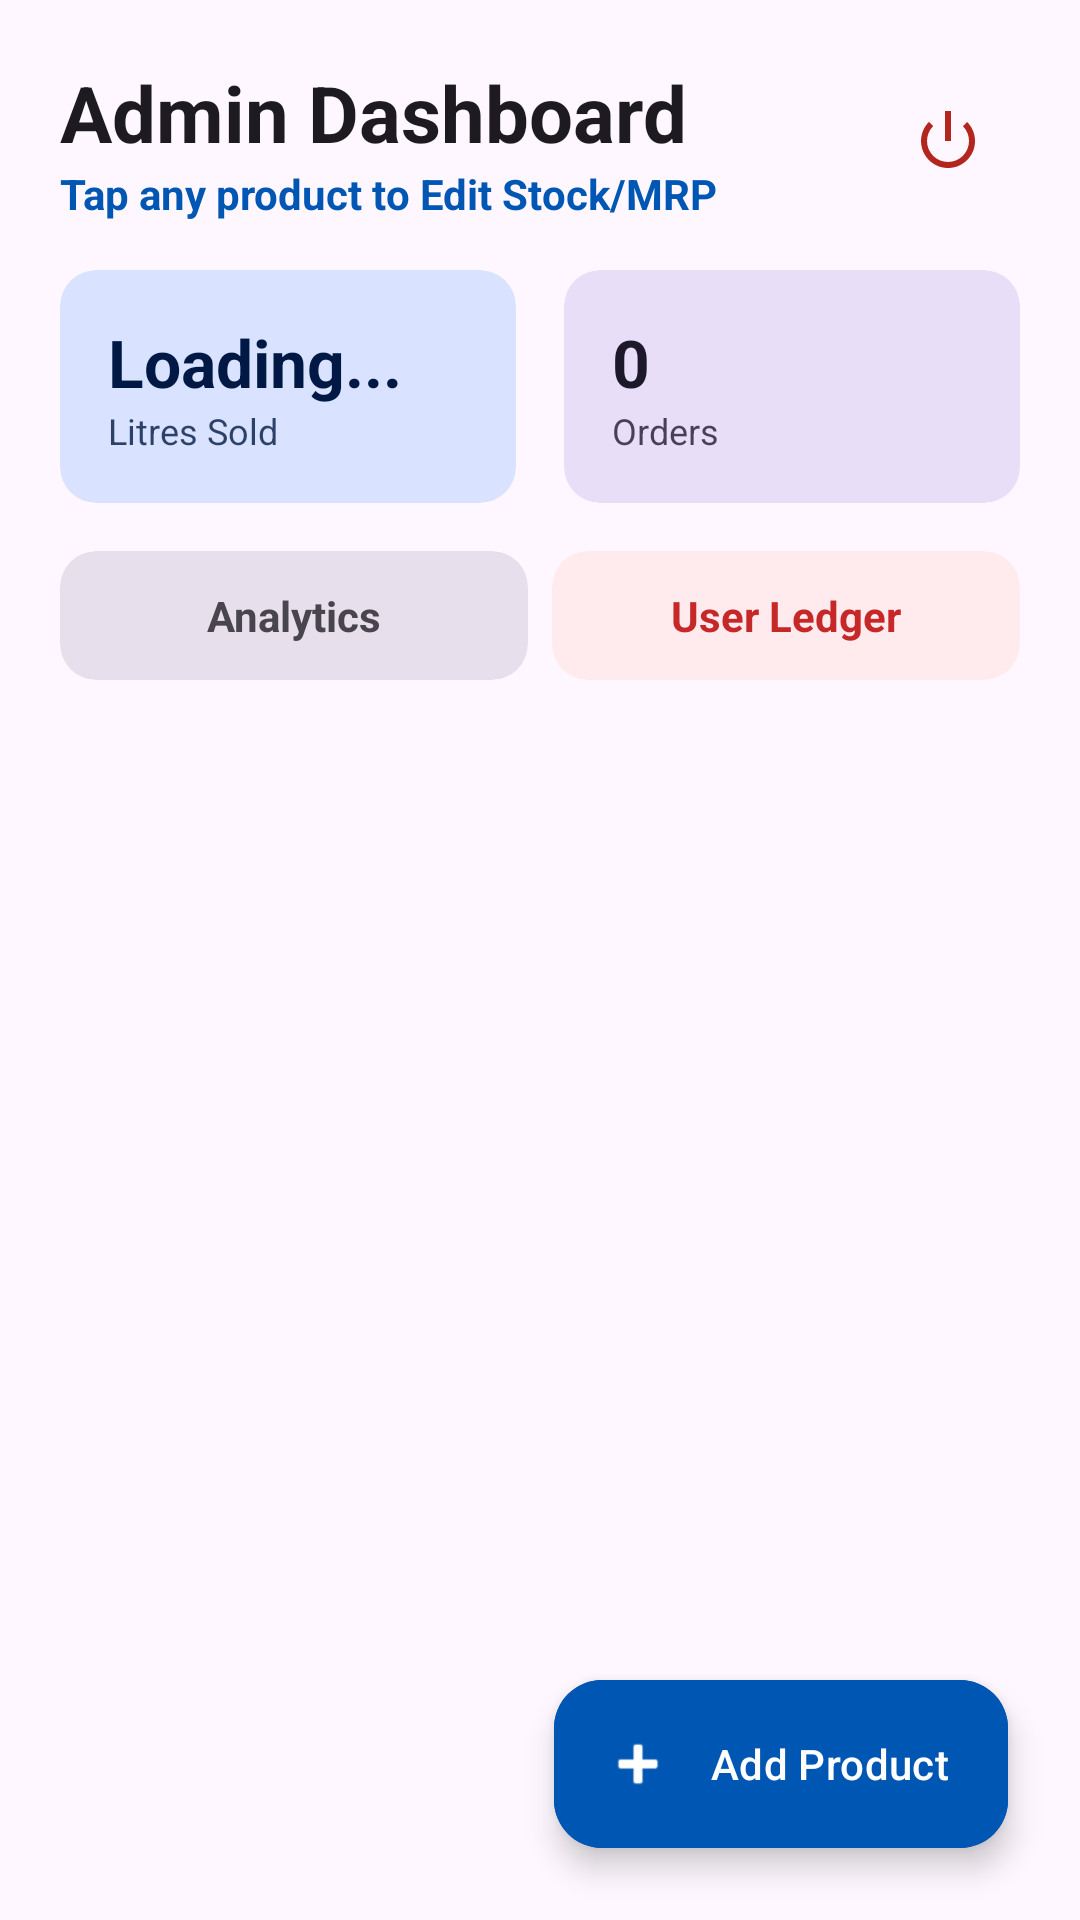

Icons on this 1080 x 1920 Android screen, each with the point to tap as [x,y]:
lock power off: [948,139]
